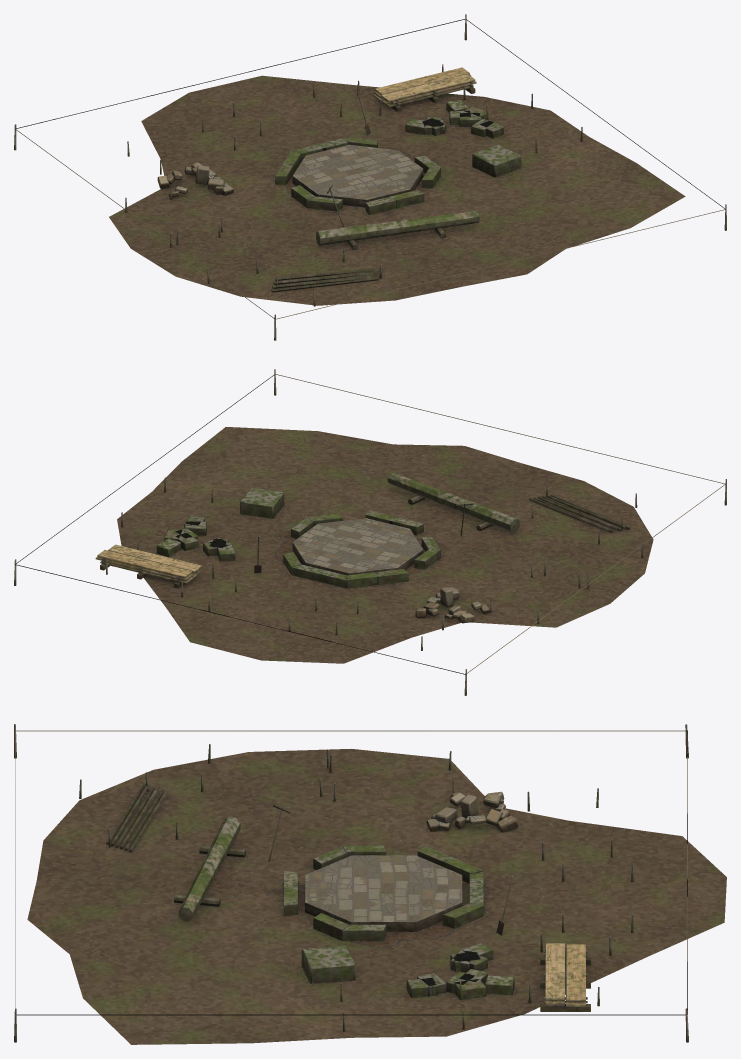
File: market_build1.glb
3 views of the same model, one above another, from view 1: azimuth 30°, elevation 25°; view 2: azimuth 150°, elevation 25°; view 3: azimuth 270°, elevation 25° (orthographic). The views are drawn at different scales.
Parts seen in each view (by area): view 1: market_build1_LOD0; view 2: market_build1_LOD0; view 3: market_build1_LOD0.
Part boxes in pixels (box(x1,y1,x2,y2)): market_build1_LOD0: box(14, 14, 726, 340); market_build1_LOD0: box(14, 369, 726, 695); market_build1_LOD0: box(14, 724, 726, 1044).
Size of what is drawn, in the model's own units: 15.22 by 1.32 by 15.49.
Materials: 1 (1 with a texture image).
